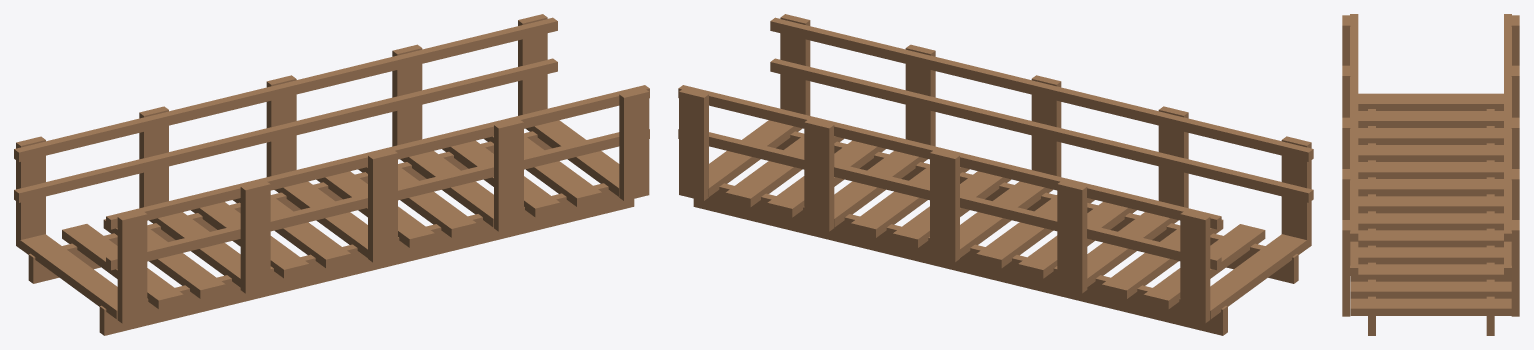
The model's file is bridgeA.glb.
The picture shows the model from 3 angles, left to right: view 1: azimuth 30°, elevation 25°; view 2: azimuth 150°, elevation 25°; view 3: azimuth 270°, elevation 25°; orthographic projection. The views are drawn at different scales.
Parts seen in each view (by area): view 1: Cube.012, Cube.025, Cube.026, Cube.028, Cube.027, Cube.014, Cube.016, Cube.023, Cube.018, Cube.020, Cube.011, Cube.013 (+17 smaller); view 2: Cube.013, Cube.027, Cube.028, Cube.025, Cube.026, Cube.015, Cube.017, Cube.021, Cube.019, Cube.024, Cube.011, Cube.012 (+17 smaller); view 3: Cube.006, Cube.022, Cube.005, Cube.011, Cube, Cube.001, Cube.002, Cube.003, Cube.004, Cube.007, Cube.008, Cube.009 (+17 smaller).
Boxes of the visible parts, x1=… form: Cube.012: x1=99, y1=183, x2=634, y2=335; Cube.025: x1=14, y1=17, x2=557, y2=161; Cube.026: x1=14, y1=58, x2=557, y2=202; Cube.028: x1=106, y1=85, x2=649, y2=229; Cube.027: x1=106, y1=129, x2=649, y2=270; Cube.014: x1=117, y1=210, x2=147, y2=323; Cube.016: x1=240, y1=180, x2=270, y2=293; Cube.023: x1=619, y1=88, x2=649, y2=201; Cube.018: x1=368, y1=149, x2=397, y2=262; Cube.020: x1=494, y1=119, x2=523, y2=231; Cube.011: x1=20, y1=234, x2=117, y2=319; Cube.013: x1=28, y1=131, x2=551, y2=283; Cube.013: x1=693, y1=183, x2=1227, y2=335; Cube.027: x1=770, y1=58, x2=1313, y2=202; Cube.028: x1=770, y1=17, x2=1313, y2=161; Cube.025: x1=678, y1=85, x2=1221, y2=229; Cube.026: x1=678, y1=129, x2=1221, y2=270; Cube.015: x1=1180, y1=210, x2=1210, y2=323; Cube.017: x1=1057, y1=180, x2=1087, y2=293; Cube.021: x1=804, y1=119, x2=834, y2=231; Cube.019: x1=930, y1=149, x2=959, y2=262; Cube.024: x1=679, y1=88, x2=708, y2=200; Cube.011: x1=1210, y1=234, x2=1306, y2=319; Cube.012: x1=776, y1=131, x2=1298, y2=283; Cube.006: x1=1350, y1=281, x2=1511, y2=298; Cube.022: x1=1350, y1=298, x2=1511, y2=315; Cube.005: x1=1350, y1=264, x2=1511, y2=281; Cube.011: x1=1358, y1=93, x2=1503, y2=110; Cube: x1=1358, y1=179, x2=1503, y2=196; Cube.001: x1=1358, y1=196, x2=1503, y2=213; Cube.002: x1=1358, y1=213, x2=1503, y2=230; Cube.003: x1=1358, y1=230, x2=1503, y2=247; Cube.004: x1=1358, y1=247, x2=1503, y2=264; Cube.007: x1=1358, y1=162, x2=1503, y2=178; Cube.008: x1=1358, y1=145, x2=1503, y2=161; Cube.009: x1=1358, y1=128, x2=1503, y2=144.
Size of the model in its own units: 12.88 by 2.88 by 4.4.
